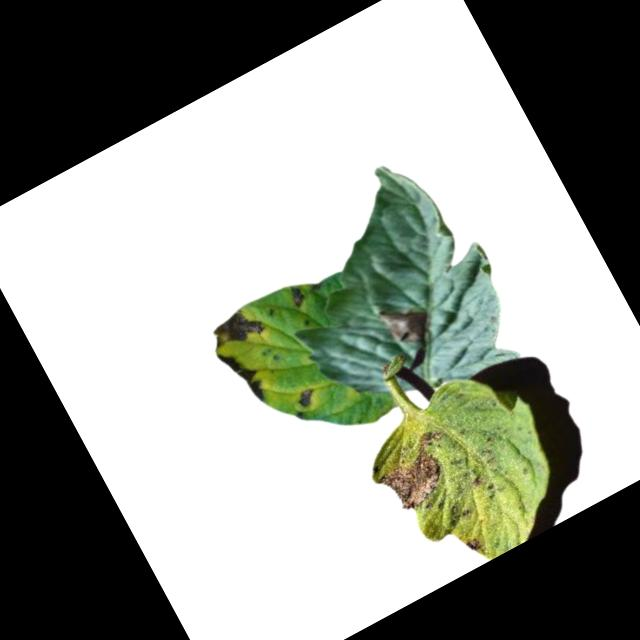Early_blight: (364, 425, 466, 519), (374, 292, 437, 355), (214, 341, 270, 410), (202, 301, 268, 357), (291, 381, 322, 409), (460, 530, 486, 558), (285, 282, 309, 310)
